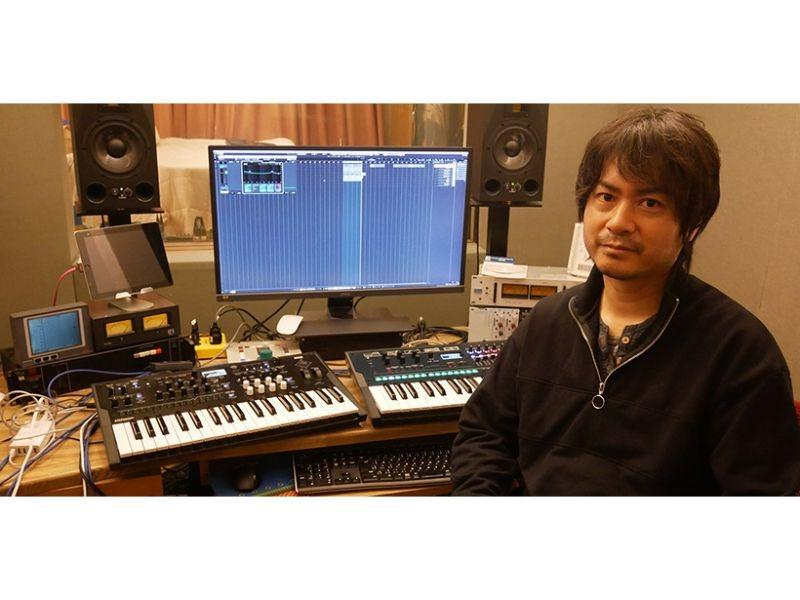synthesizer: (82, 359, 349, 458), (356, 330, 456, 417)
